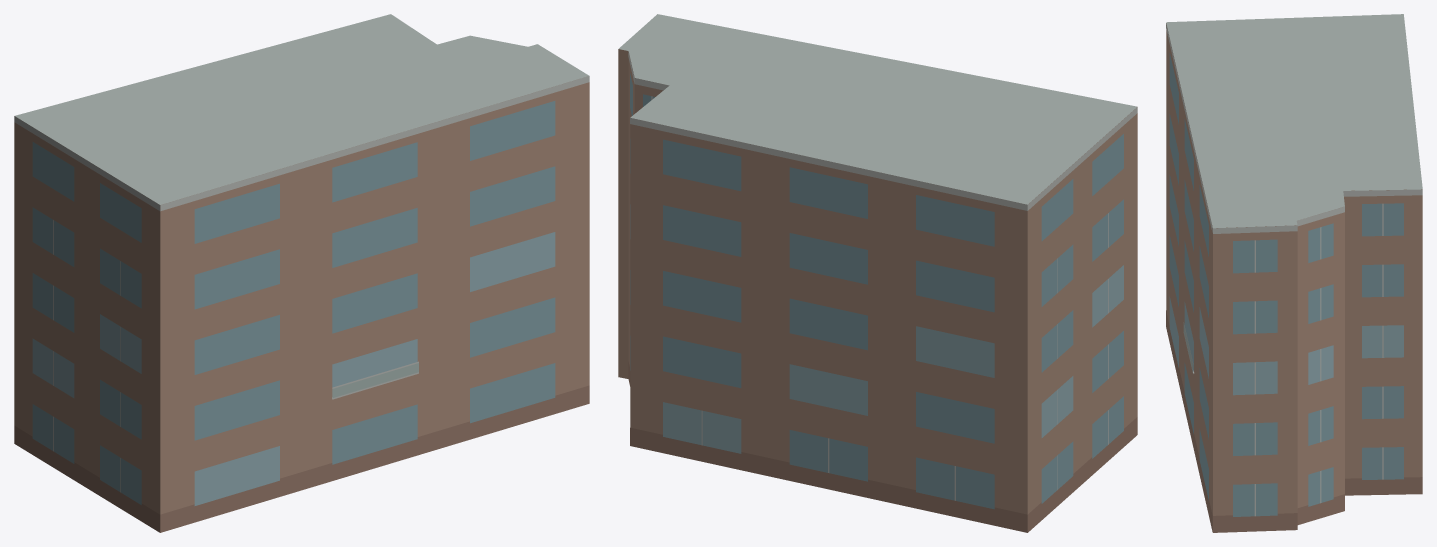
File: survey-upis-32657896.glb
3 views of the same model, side by side, from view 1: azimuth 30°, elevation 25°; view 2: azimuth 150°, elevation 25°; view 3: azimuth 270°, elevation 25° (orthographic). The views are drawn at different scales.
Visible parts, largest first — view 1: survey-upis-32657896.tmp; view 2: survey-upis-32657896.tmp; view 3: survey-upis-32657896.tmp.
Part boxes in pixels (x1,y1,x2,y2): survey-upis-32657896.tmp: (14, 14, 589, 532); survey-upis-32657896.tmp: (618, 14, 1137, 532); survey-upis-32657896.tmp: (1166, 14, 1422, 532).
Bounding box in the file's own units: 19.16 × 12.7 × 9.71.
